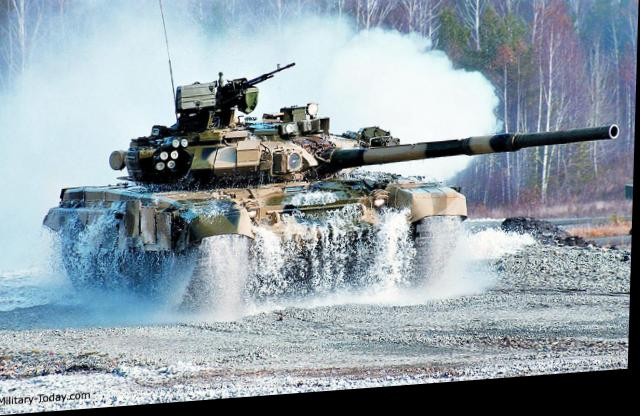tank: (55, 70, 467, 325)
